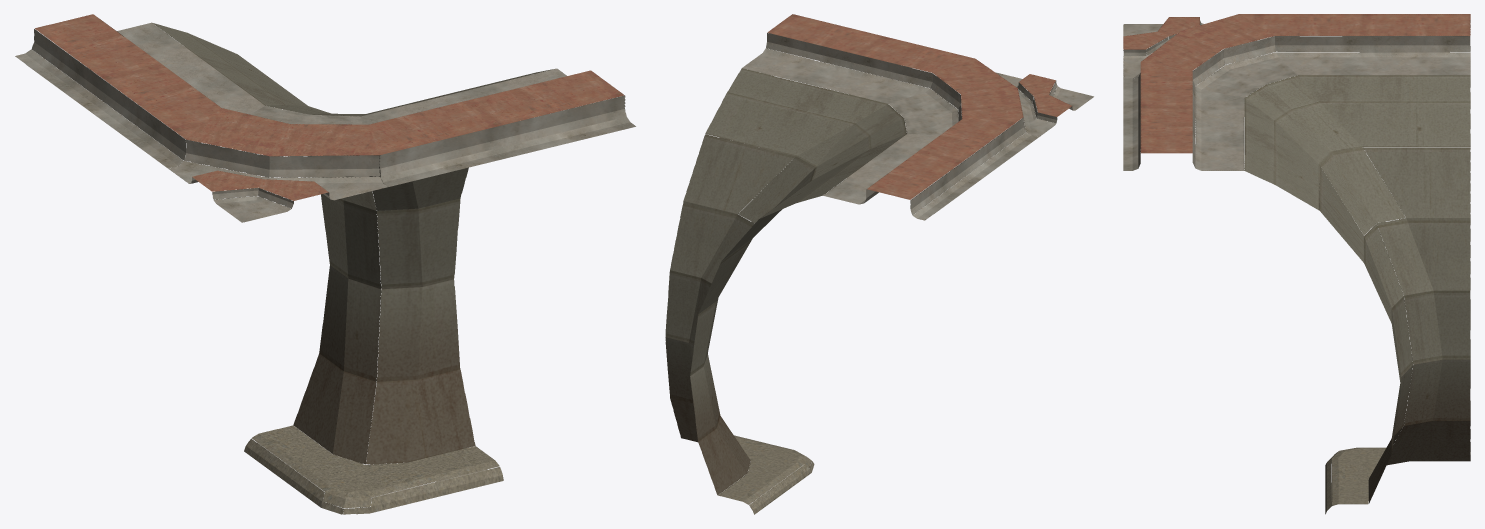
Rendered from 9x9_close_corner_piece.fbx.
3 renders of one model, left to right at view 1: azimuth 30°, elevation 25°; view 2: azimuth 150°, elevation 25°; view 3: azimuth 270°, elevation 25°, orthographic. The views are drawn at different scales.
Parts seen in each view (by area): view 1: 9x9_close_corner_hallway; view 2: 9x9_close_corner_hallway; view 3: 9x9_close_corner_hallway.
Boxes of the visible parts, x1,y1,x2,y2 form: 9x9_close_corner_hallway: (15, 14, 635, 514); 9x9_close_corner_hallway: (665, 14, 1093, 514); 9x9_close_corner_hallway: (1123, 14, 1470, 514).
Size of the model in its own units: 450 by 517 by 450.
